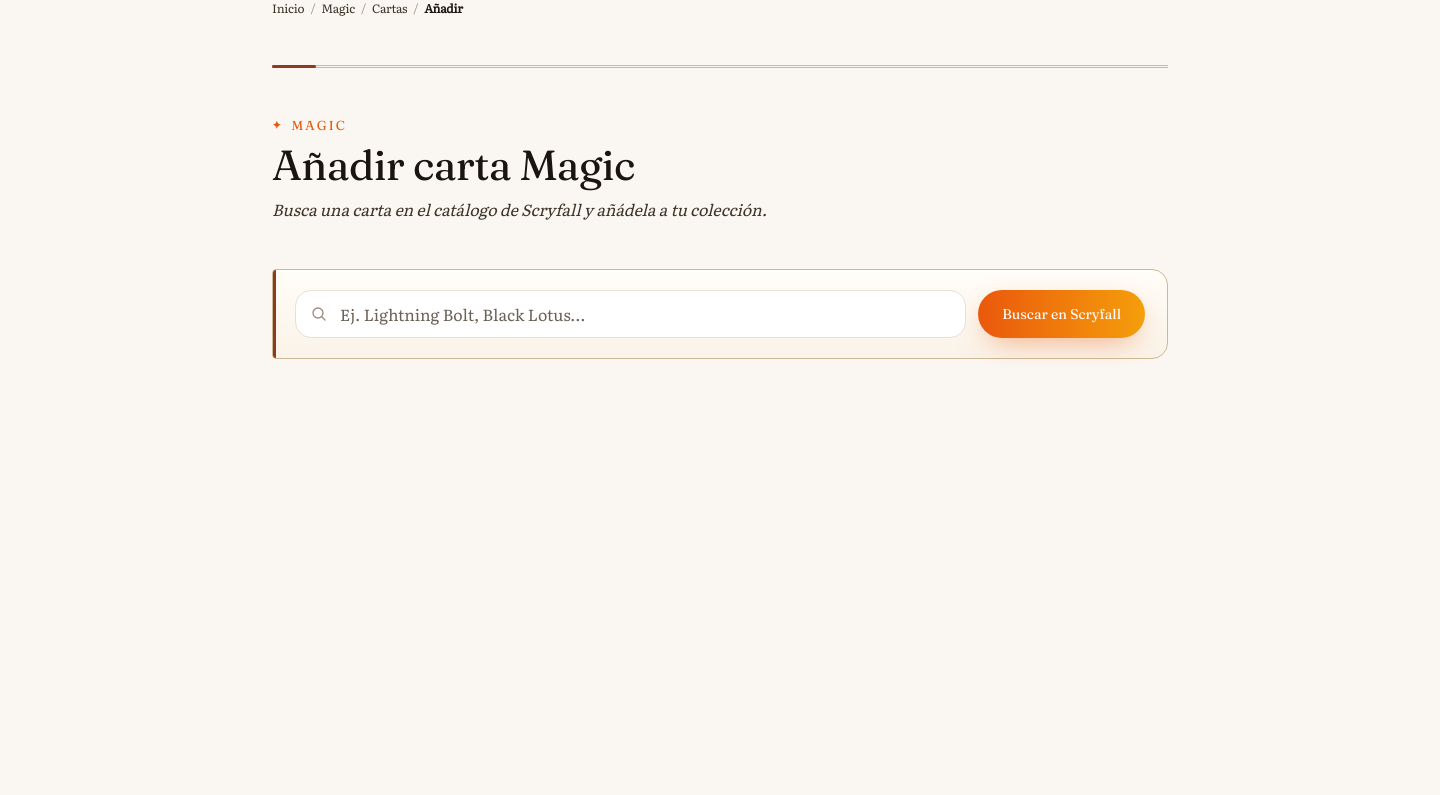
Test case: MagicCreatePage selector de impresiones › pulsar un resultado abre el panel y pide la página 0 de impresiones
Type "Plains" into the field named "Buscar carta" at (631, 314), box [295,290,966,338]
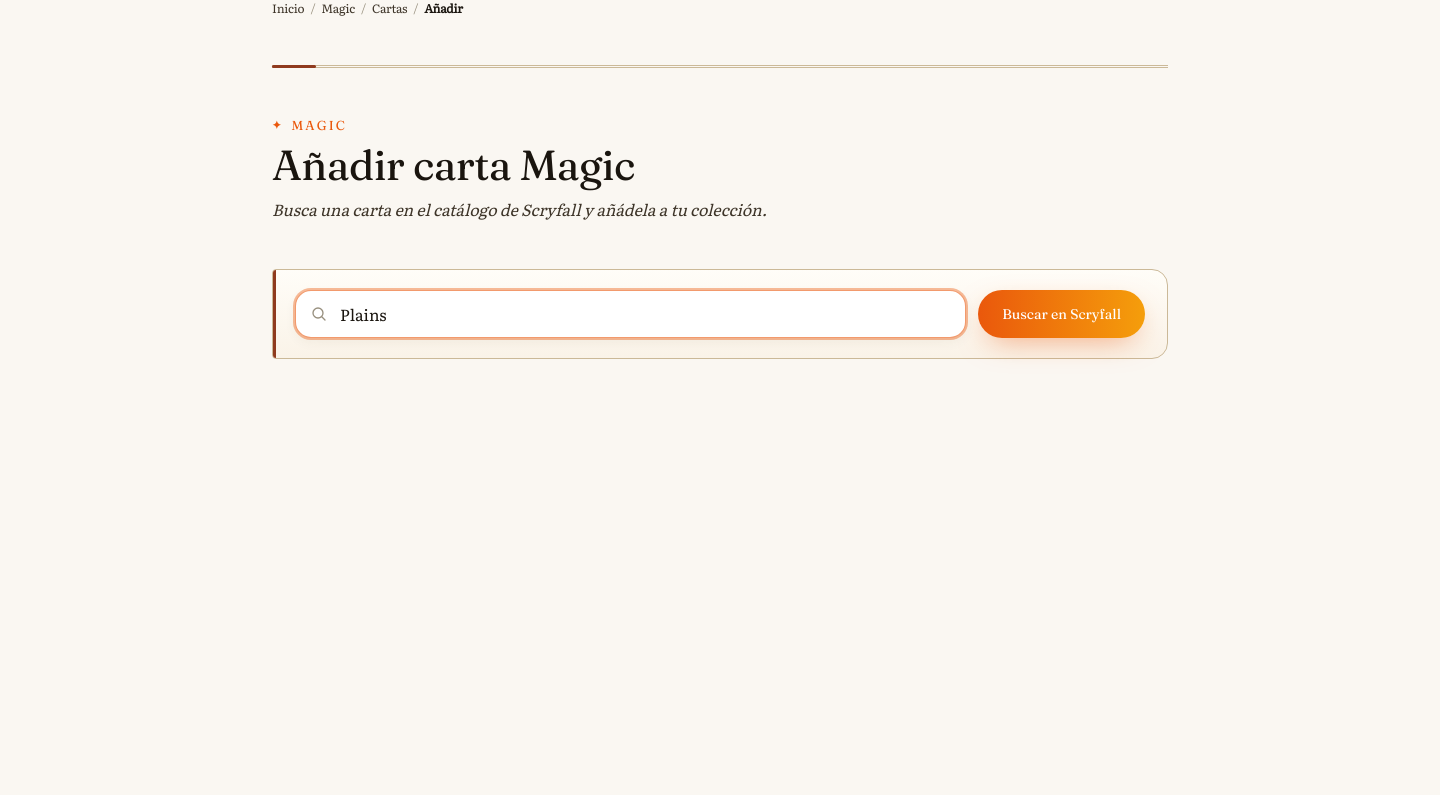
Click the button "Buscar en Scryfall" at (1062, 314), box [978,290,1145,338]
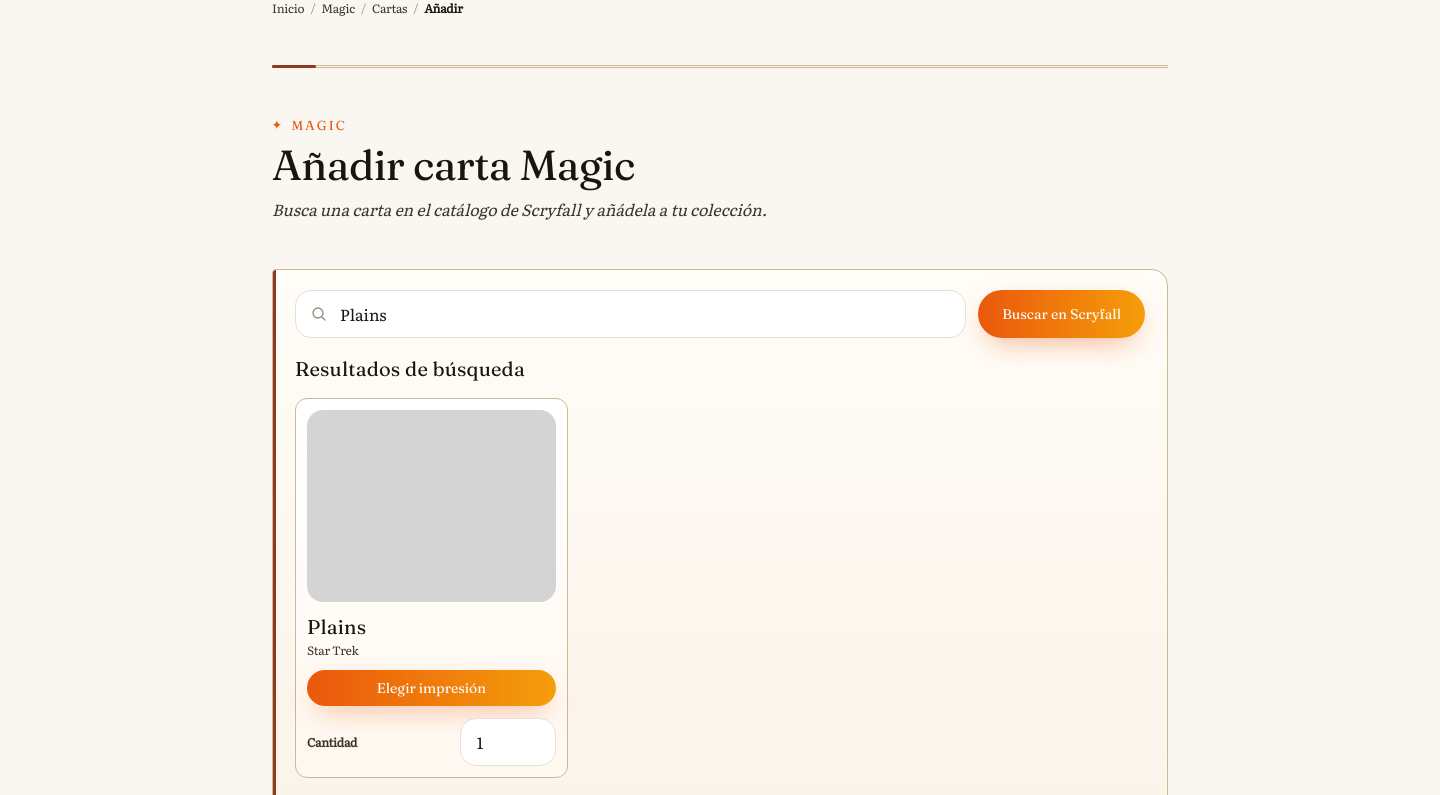
Now the heading "Plains" is shown, box [307,614,366,640]
Click the button with aria-label "Ver impresiones de Plains" at (431, 534), box [307,410,556,658]
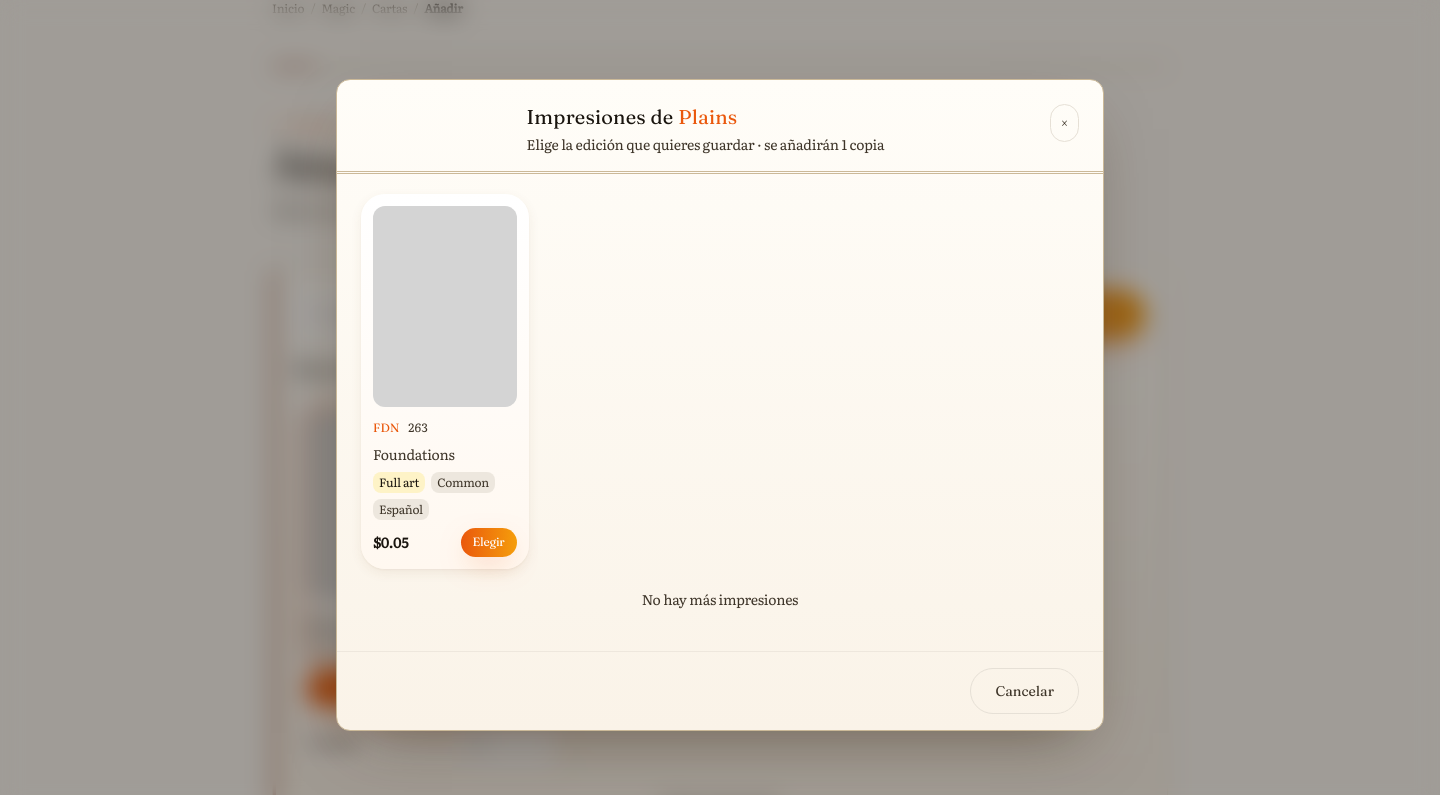
Now the dialog is shown, box [336,79,1104,731]
